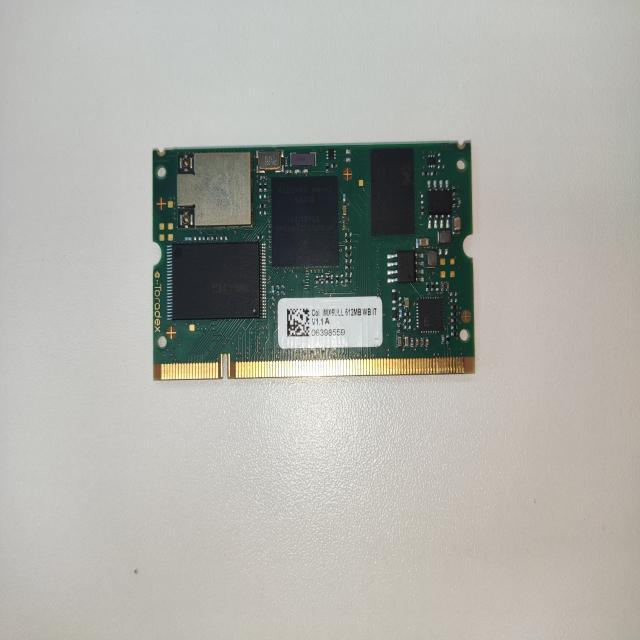som: (145, 132, 502, 387)
